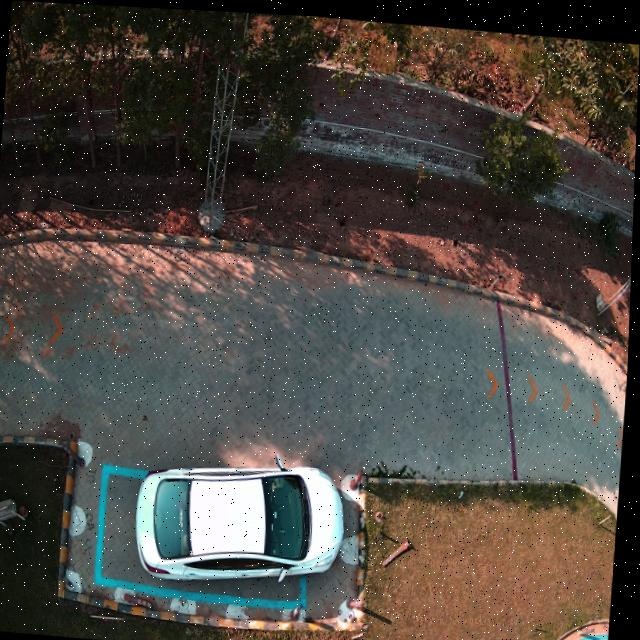car: (137, 463, 348, 579)
